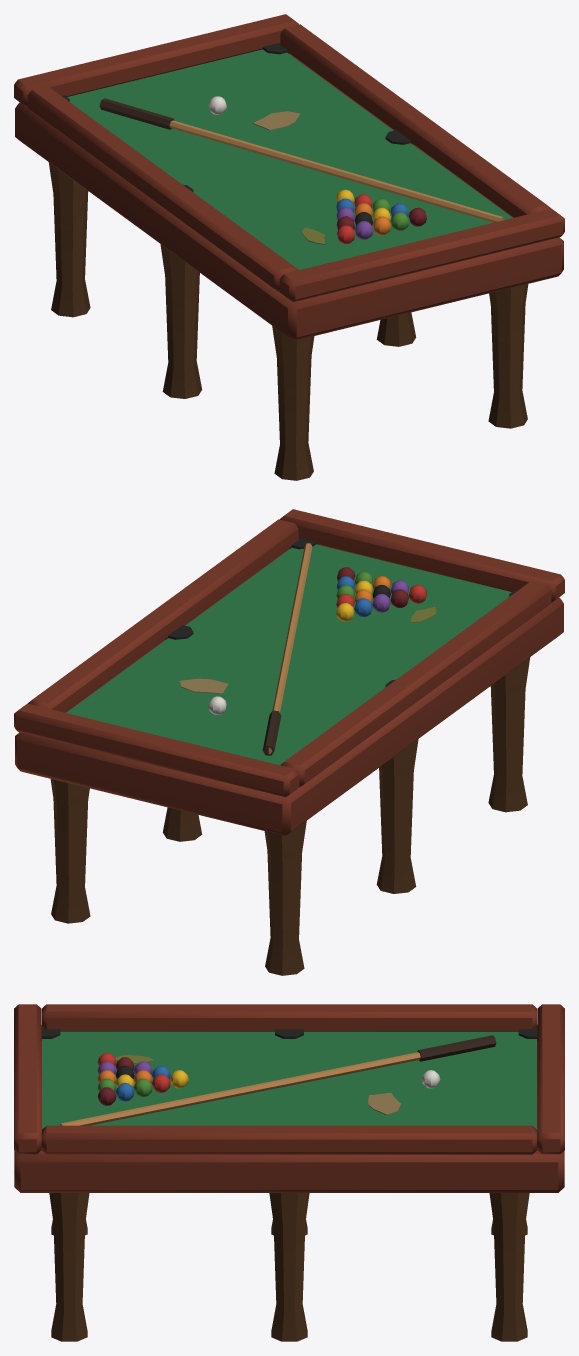
File: 62_billard.fbx
3 renders of one model, top to bottom at view 1: azimuth 30°, elevation 25°; view 2: azimuth 150°, elevation 25°; view 3: azimuth 270°, elevation 25°, orthographic.
Parts seen in each view (by area): view 1: Table, Queue, Boules; view 2: Table, Boules, Queue; view 3: Table, Queue, Boules.
Boxes of the visible parts, x1,y1,x2,y2 form: Table: (14,14,564,480); Queue: (99,98,503,222); Boules: (208,96,426,243); Table: (14,509,564,975); Boules: (208,567,426,714); Queue: (262,543,312,755); Table: (14,1004,564,1341); Queue: (60,1035,496,1125); Boules: (97,1052,440,1105).
Size of the model in its own units: 1.12 by 0.84 by 1.96.
Materials: 1 (1 with a texture image).
